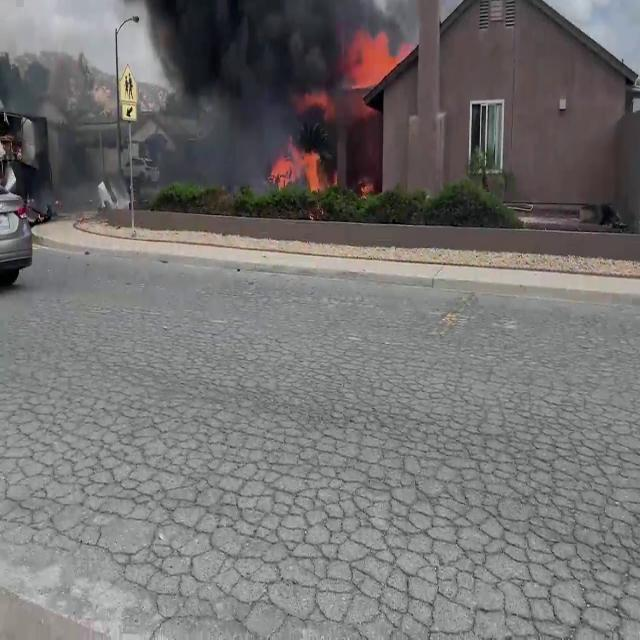Fire: (346, 24, 402, 94), (266, 130, 328, 192)
Smoke: (15, 1, 390, 202), (17, 0, 224, 211), (153, 0, 383, 184)
